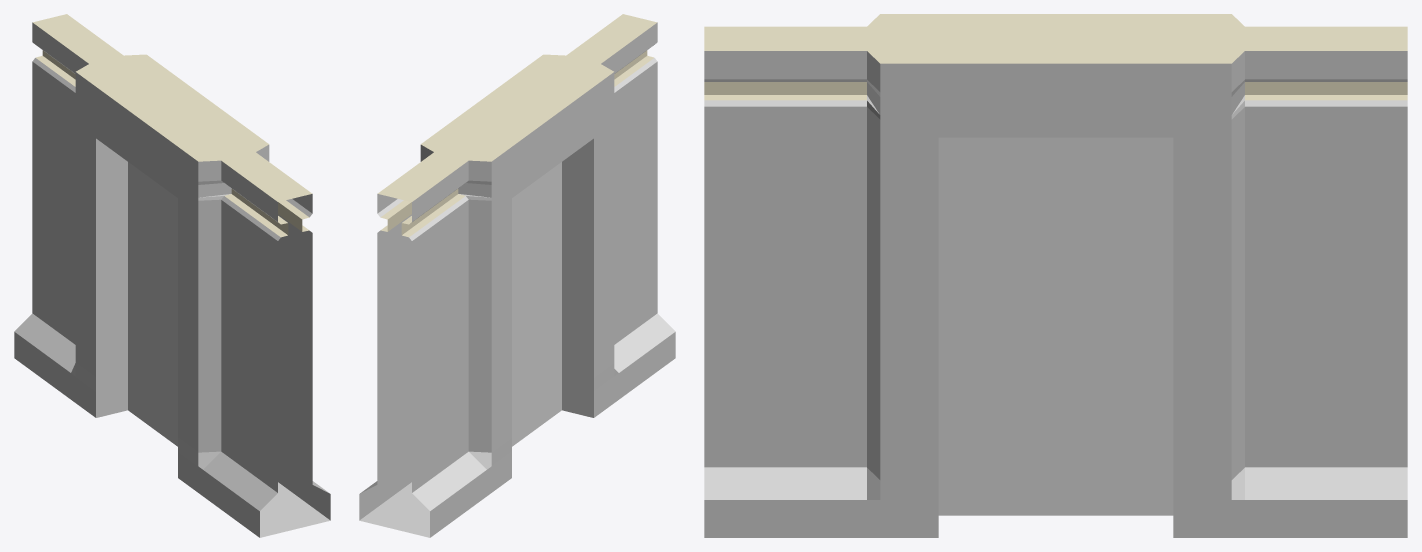
Rendered from door.fbx.
The picture shows the model from 3 angles, left to right: view 1: azimuth 30°, elevation 25°; view 2: azimuth 150°, elevation 25°; view 3: azimuth 270°, elevation 25°; orthographic projection. The views are drawn at different scales.
Visible parts, largest first — view 1: wall_door_frame, door; view 2: wall_door_frame, door; view 3: wall_door_frame, door.
Boxes of the visible parts, <box> form: wall_door_frame: <box>14,14,330,537</box>; door: <box>128,162,177,446</box>; wall_door_frame: <box>359,14,675,537</box>; door: <box>512,162,561,446</box>; wall_door_frame: <box>704,14,1407,537</box>; door: <box>938,137,1173,515</box>.
Bounding box in the file's own units: 50.06 × 223 × 300.
